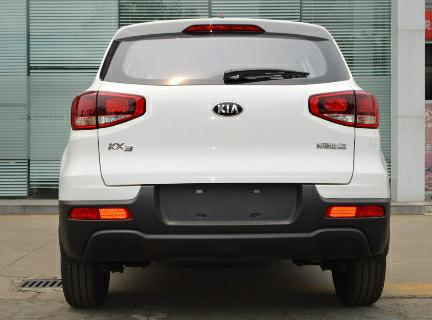起亚-KX3: (49, 15, 399, 310)
